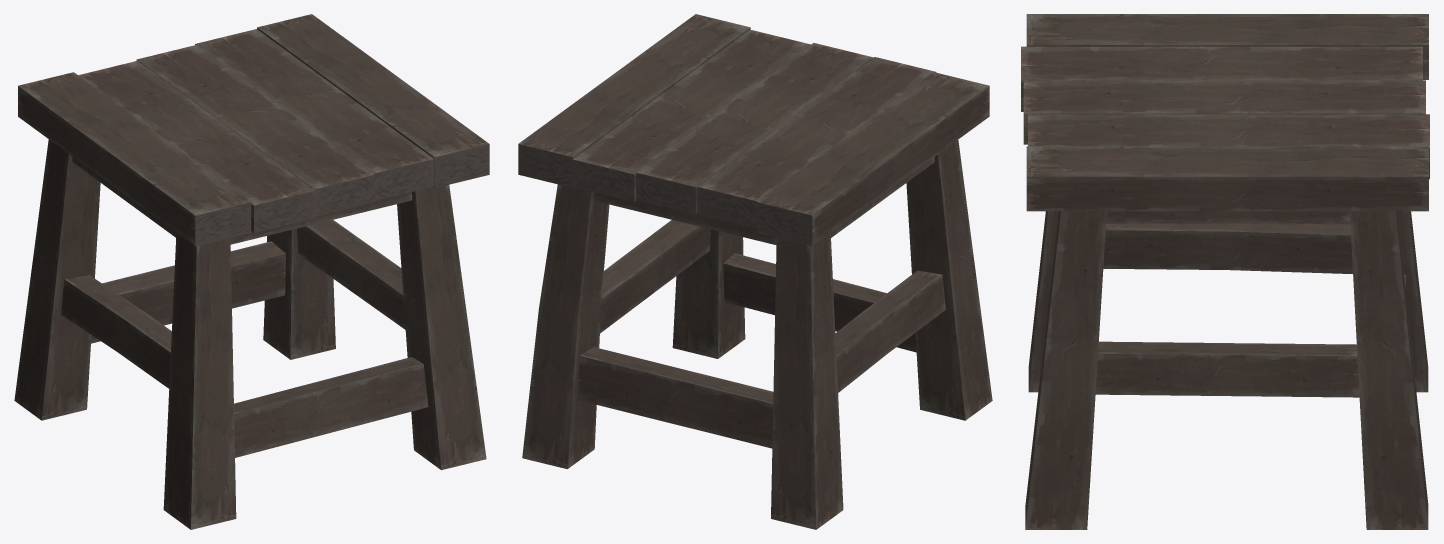
Rendered from Homeworld_Exterior_Dq_Chair_MuZhuo_01_Vo.fbx.
3 views of the same model, side by side, from view 1: azimuth 30°, elevation 25°; view 2: azimuth 150°, elevation 25°; view 3: azimuth 270°, elevation 25° (orthographic). The views are drawn at different scales.
Visible parts, largest first — view 1: Area_Dq_Prop_MS_Chair_01_Vo; view 2: Area_Dq_Prop_MS_Chair_01_Vo; view 3: Area_Dq_Prop_MS_Chair_01_Vo.
Part boxes in pixels (x1,y1,x2,y2): Area_Dq_Prop_MS_Chair_01_Vo: (14,14,489,529); Area_Dq_Prop_MS_Chair_01_Vo: (518,14,992,529); Area_Dq_Prop_MS_Chair_01_Vo: (1021,14,1429,529).
Size of the model in its own units: 0.497 by 0.5005 by 0.5219.
